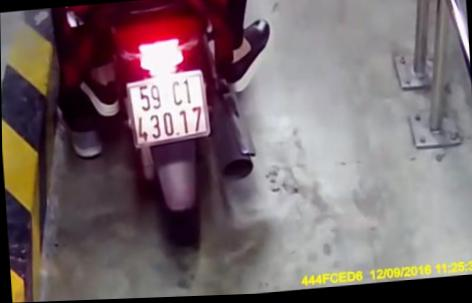LP: (126, 75, 210, 149)
